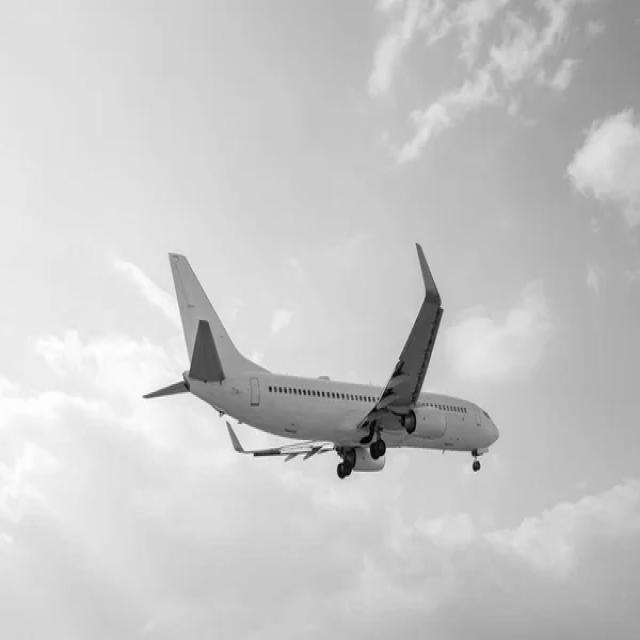Aircraft: (145, 231, 501, 483)
